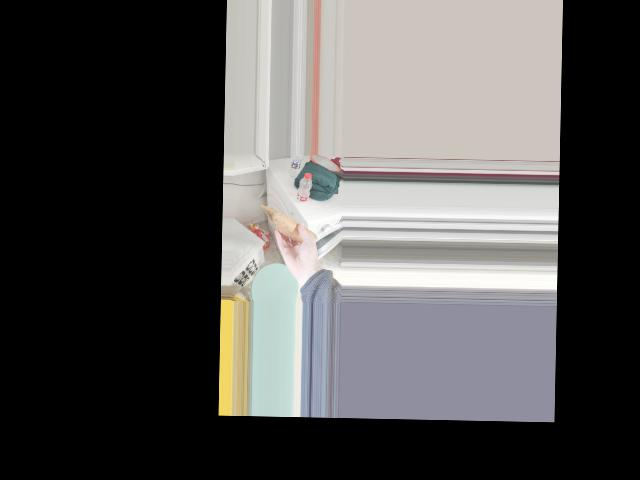sweet_potato: (275, 214, 311, 240)
